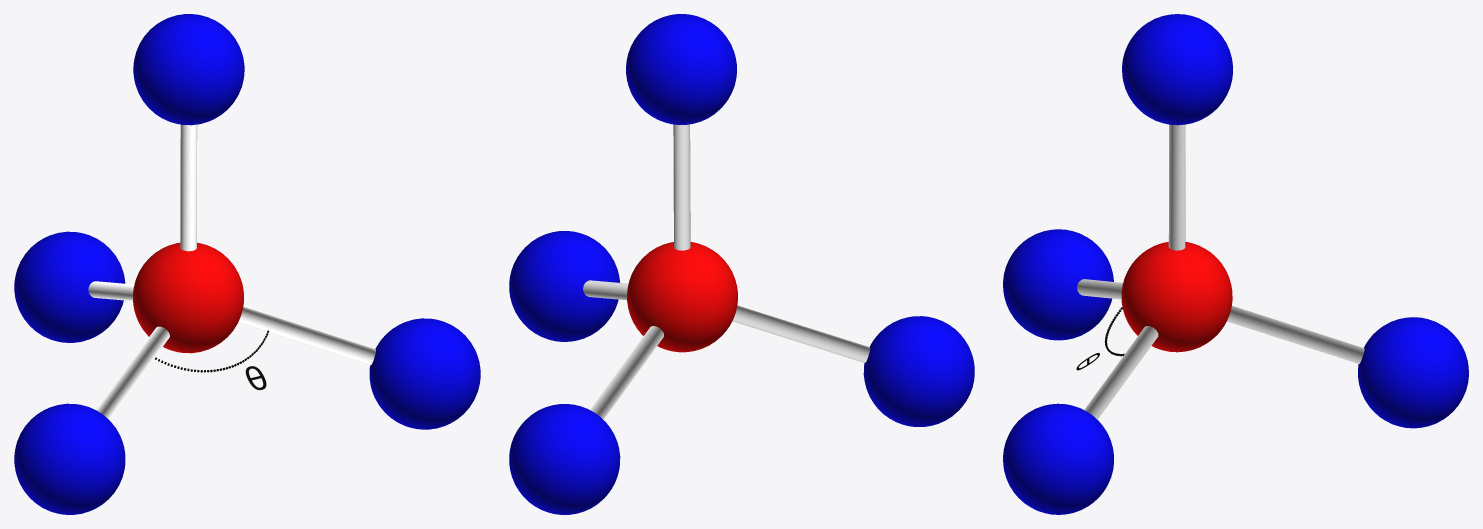
The model's file is tetrahedral.glb.
The picture shows the model from 3 angles, left to right: view 1: azimuth 30°, elevation 25°; view 2: azimuth 150°, elevation 25°; view 3: azimuth 270°, elevation 25°; orthographic projection.
Visible parts, largest first — view 1: 1tetrahedral; view 2: 1tetrahedral; view 3: 1tetrahedral.
Part boxes in pixels (x1,y1,x2,y2): 1tetrahedral: (14,14,480,514); 1tetrahedral: (509,14,974,514); 1tetrahedral: (1003,14,1468,514).
Bounding box in the file's own units: 3 × 2.56 × 2.68.
Materials: 5 (1 with a texture image).
